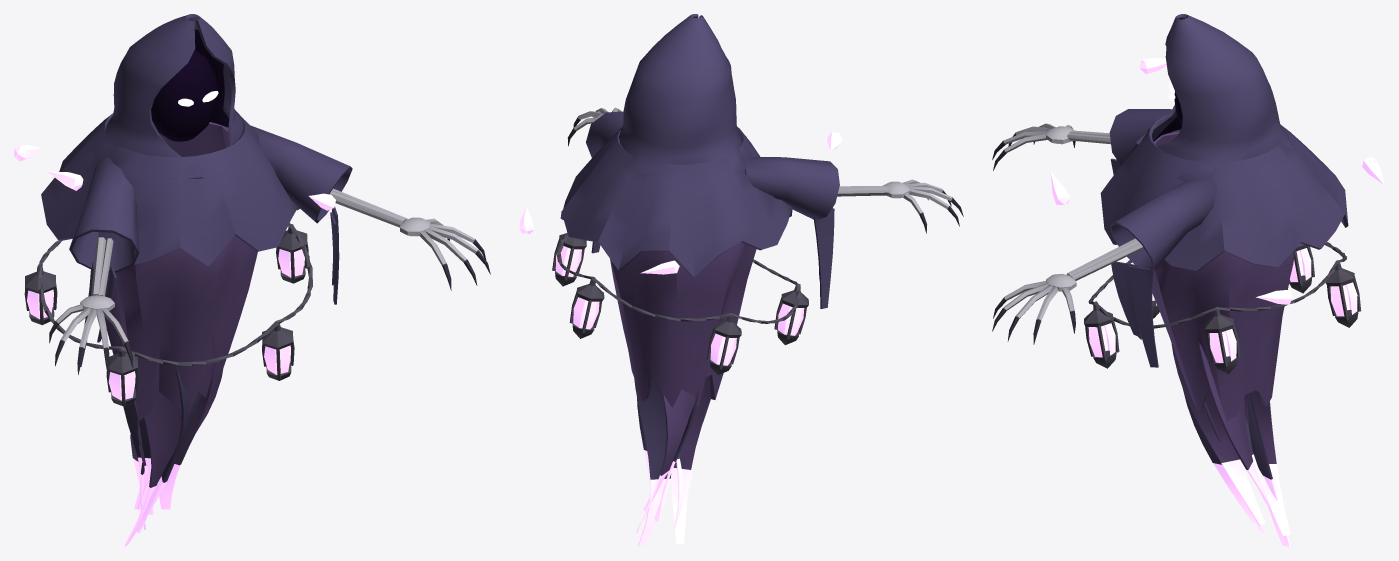
File: gloomwraith.glb
3 views of the same model, side by side, from view 1: azimuth 30°, elevation 25°; view 2: azimuth 150°, elevation 25°; view 3: azimuth 270°, elevation 25° (orthographic). The views are drawn at different scales.
Parts seen in each view (by area): view 1: core, ring_1, ribbons, ring_2; view 2: core, ribbons, ring_1, ring_2; view 3: core, ribbons, ring_1, ring_2.
Boxes of the visible parts, <box> form: core: <box>41,14,490,421</box>; ring_1: <box>24,223,312,406</box>; ribbons: <box>123,333,223,546</box>; ring_2: <box>14,145,335,210</box>; core: <box>560,14,963,407</box>; ribbons: <box>634,376,710,546</box>; ring_1: <box>552,233,808,374</box>; ring_2: <box>519,132,842,274</box>; core: <box>992,14,1348,421</box>; ribbons: <box>1170,338,1290,546</box>; ring_1: <box>1084,242,1361,374</box>; ring_2: <box>1050,58,1384,304</box>.
Bounding box in the file's own units: 1.69 × 2.07 × 1.4.
